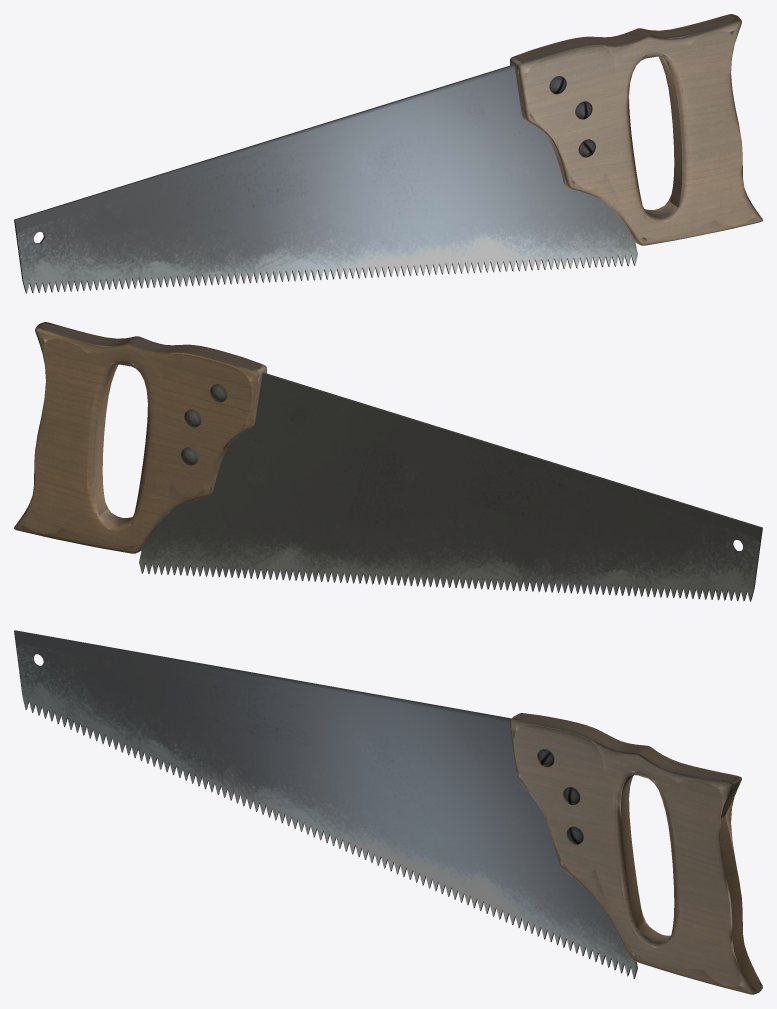
The model's file is 10295_Hand_saw_v1_Iterations-2.obj.
3 renders of one model, top to bottom at view 1: azimuth 30°, elevation 25°; view 2: azimuth 150°, elevation 25°; view 3: azimuth 330°, elevation 25°, orthographic.
Visible parts, largest first — view 1: Hand_saw; view 2: Hand_saw; view 3: Hand_saw.
Part boxes in pixels (x1=…): Hand_saw: x1=14, y1=14, x2=762, y2=293; Hand_saw: x1=14, y1=322, x2=762, y2=601; Hand_saw: x1=14, y1=630, x2=762, y2=994.
Bounding box in the file's own units: 49.95 × 15.2 × 1.98.
1 material, 1 textured.
